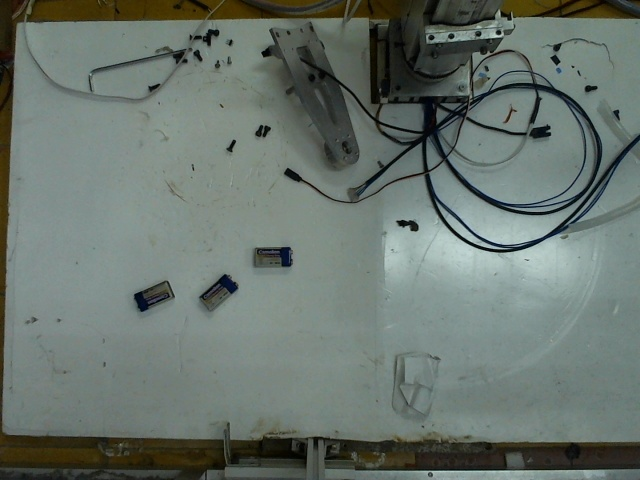battery: (129, 276, 175, 311), (194, 272, 237, 306), (250, 238, 296, 267)
